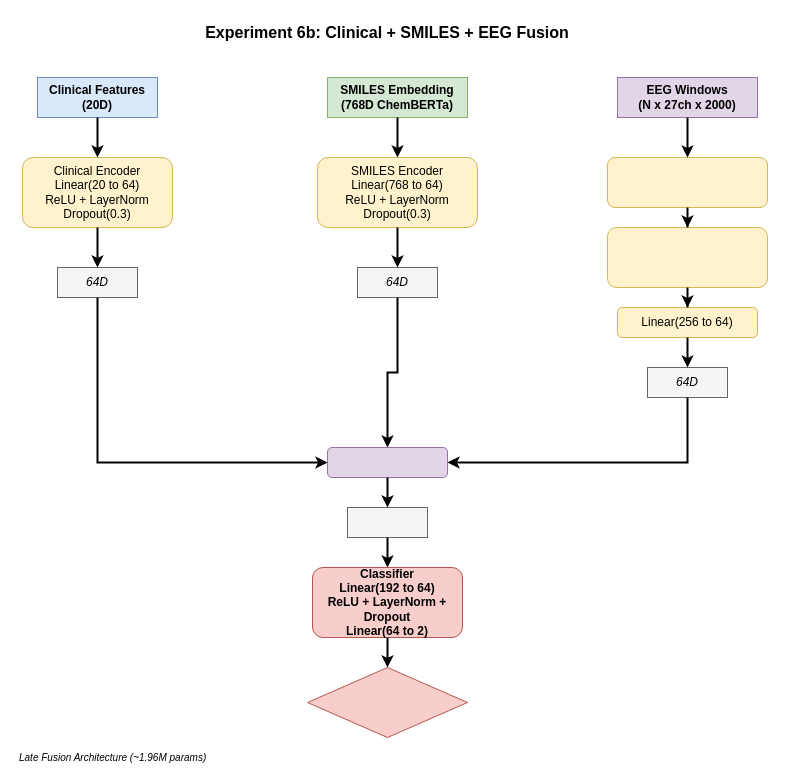
Image size: 785x784. Some labels were removed from this diagram. Here are the shapes that lost their labels. From the top down, the centre of each, then its label:
At pixel 687 182: "SimpleCNN Encoder (per window to 256D)".
At pixel 687 257: "Transformer Encoder (2 layers, 4 heads) + Mean Pool".
At pixel 387 462: "Concatenate".
At pixel 387 522: "192D".
At pixel 387 702: "Prediction (Success / Failure)".
